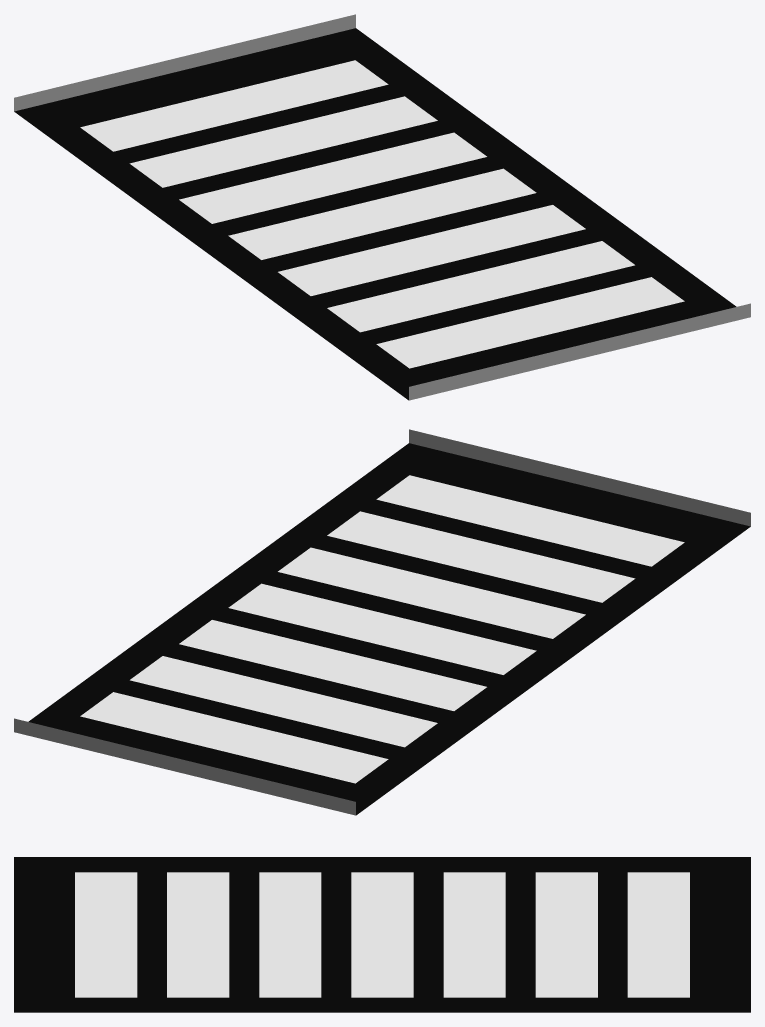
Rendered from lp-faixadepedestre.gltf.
3 renders of one model, top to bottom at view 1: azimuth 30°, elevation 25°; view 2: azimuth 150°, elevation 25°; view 3: azimuth 270°, elevation 25°, orthographic. The views are drawn at different scales.
Visible parts, largest first — view 1: rua.002; view 2: rua.002; view 3: rua.002.
Part boxes in pixels (<box>): rua.002: <box>14,14,750,400</box>; rua.002: <box>14,429,750,815</box>; rua.002: <box>14,857,750,1012</box>.
Size of the model in its own units: 2 by 0.0771 by 4.
1 material, 1 textured.
